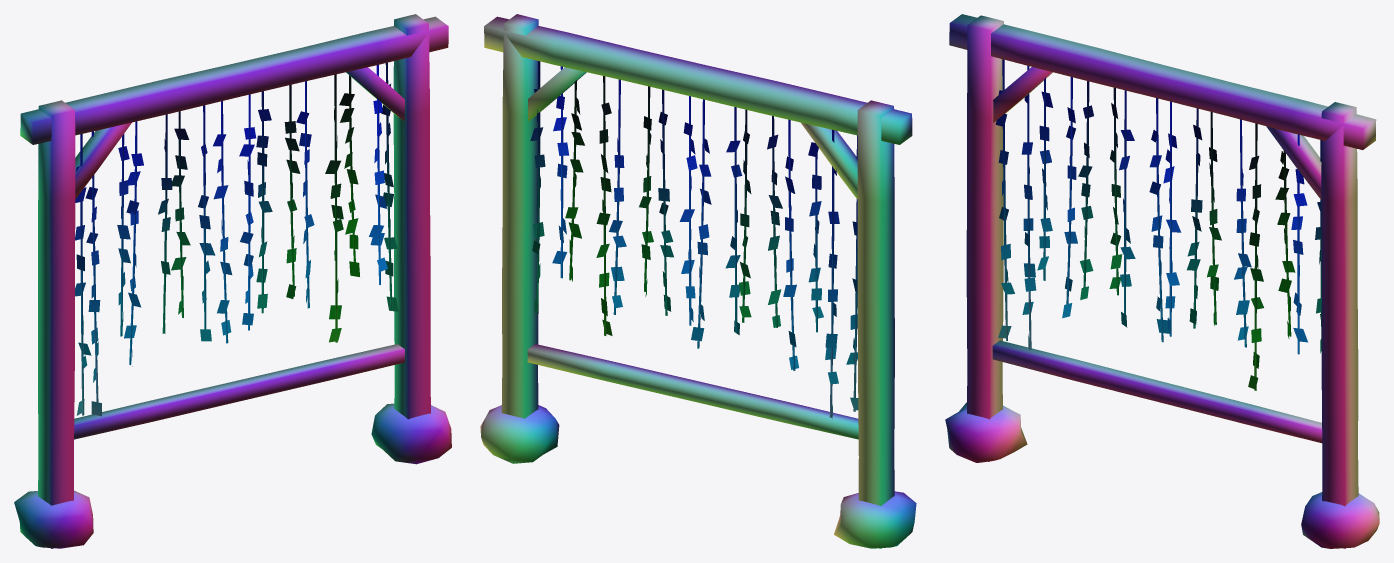
Rendered from SM_Pit_TagRack.fbx.
3 renders of one model, left to right at view 1: azimuth 30°, elevation 25°; view 2: azimuth 150°, elevation 25°; view 3: azimuth 330°, elevation 25°, orthographic.
Parts seen in each view (by area): view 1: SM_Pit_TagRack; view 2: SM_Pit_TagRack; view 3: SM_Pit_TagRack.
Boxes of the visible parts, x1,y1,x2,y2 form: SM_Pit_TagRack: [14, 14, 451, 548]; SM_Pit_TagRack: [480, 14, 916, 548]; SM_Pit_TagRack: [945, 14, 1379, 548].
Size of the model in its own units: 2.14 by 2.1 by 0.3384.
